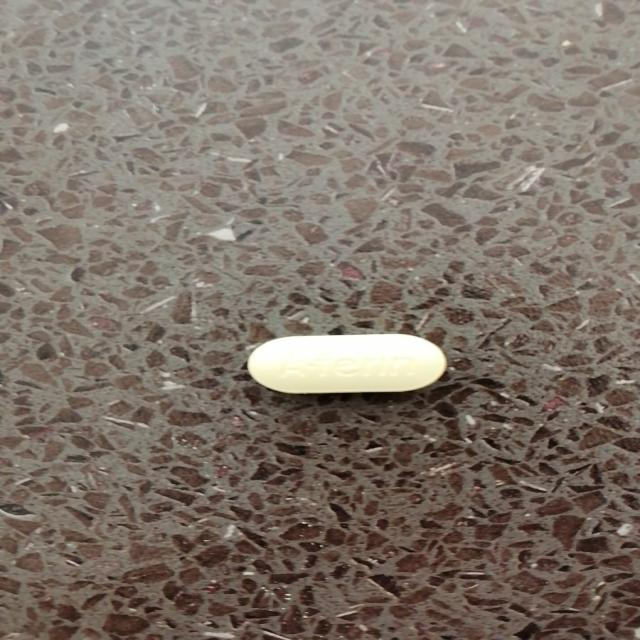pills: (228, 326, 462, 400)
